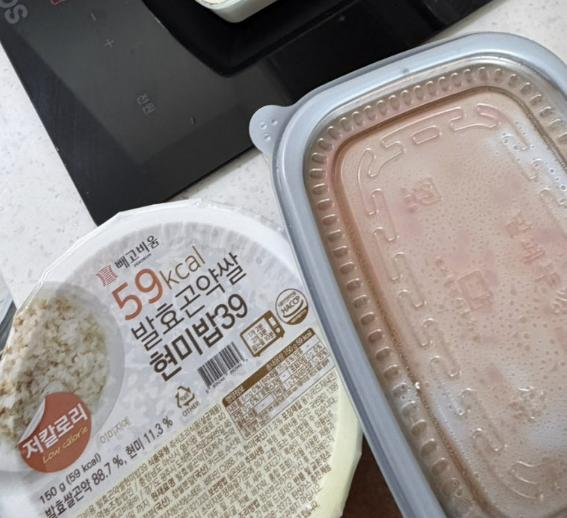Lunch Box: (250, 33, 566, 517), (0, 201, 360, 517)
